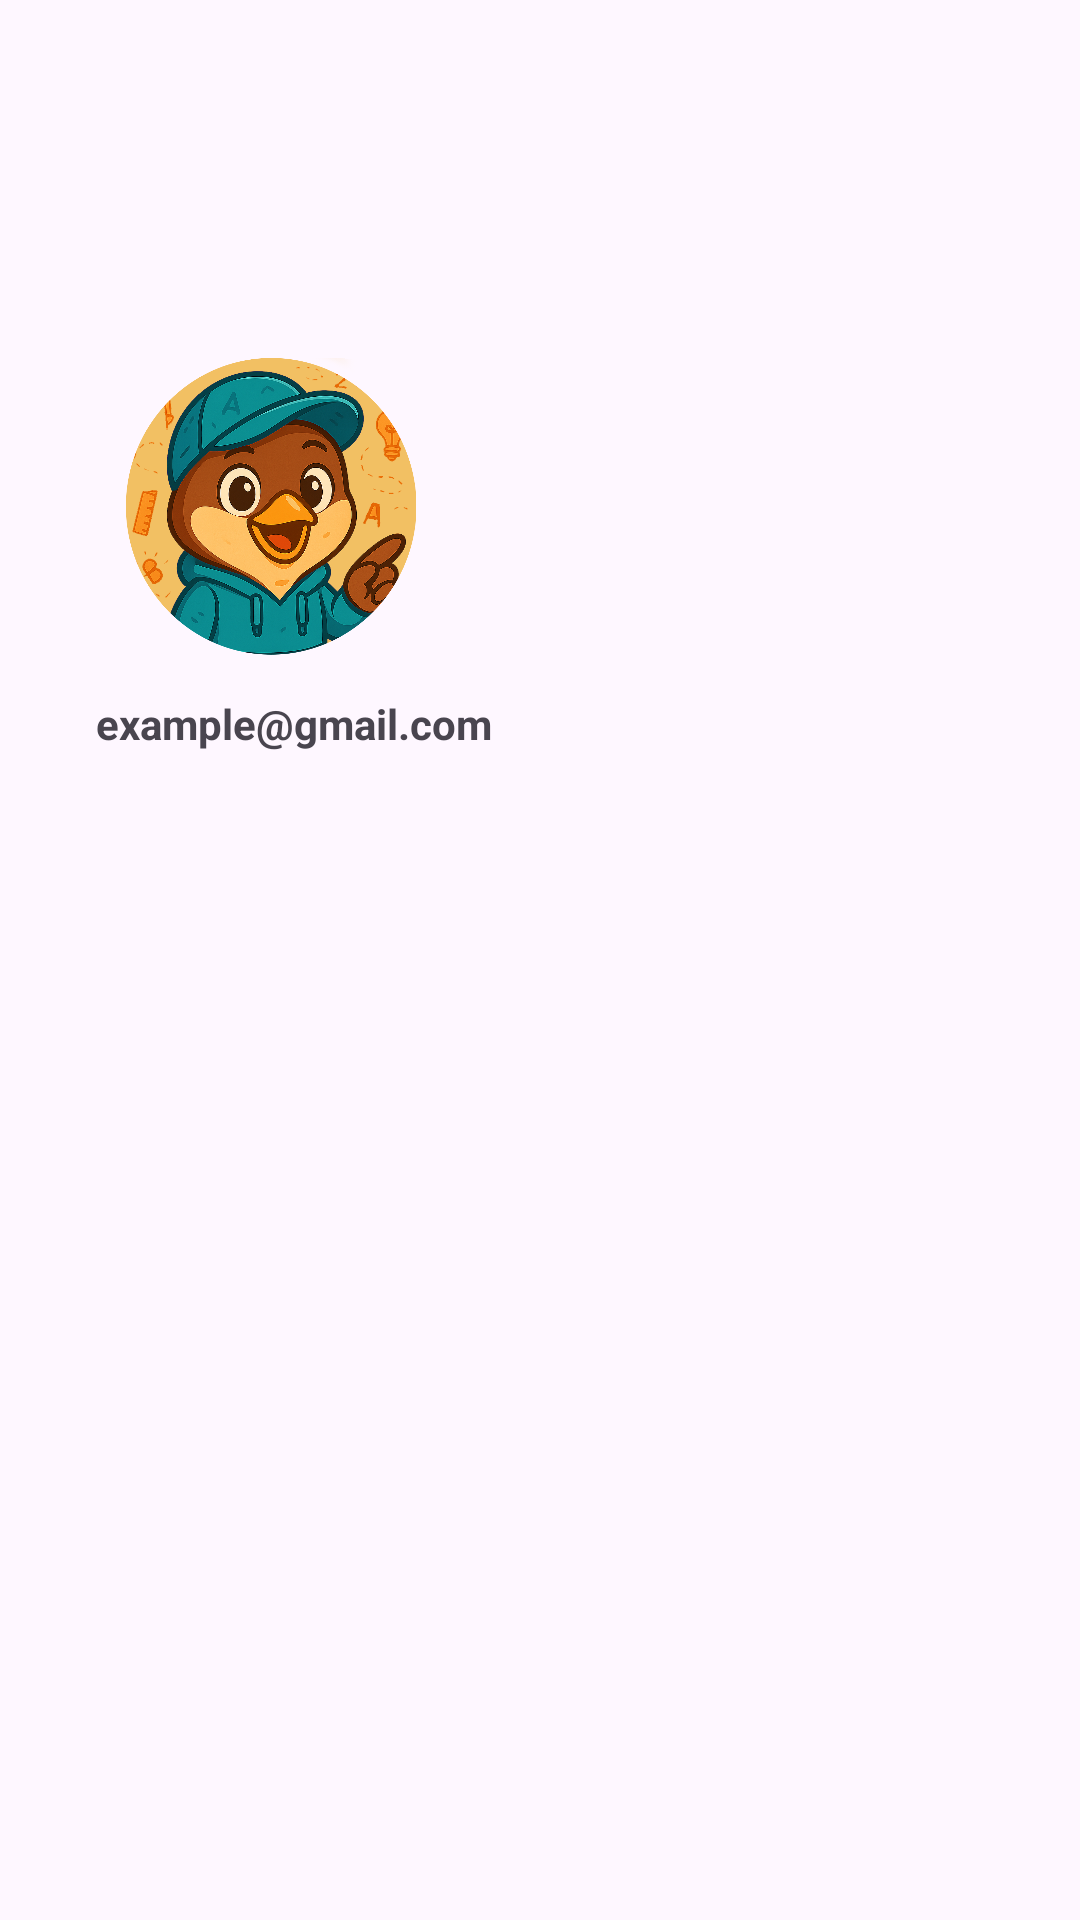

Locate icon controls on the screen. Image size 1080x1920, boxes as (x1, y1, x2, y2).
sparrow rounded: (126, 358, 416, 655)
